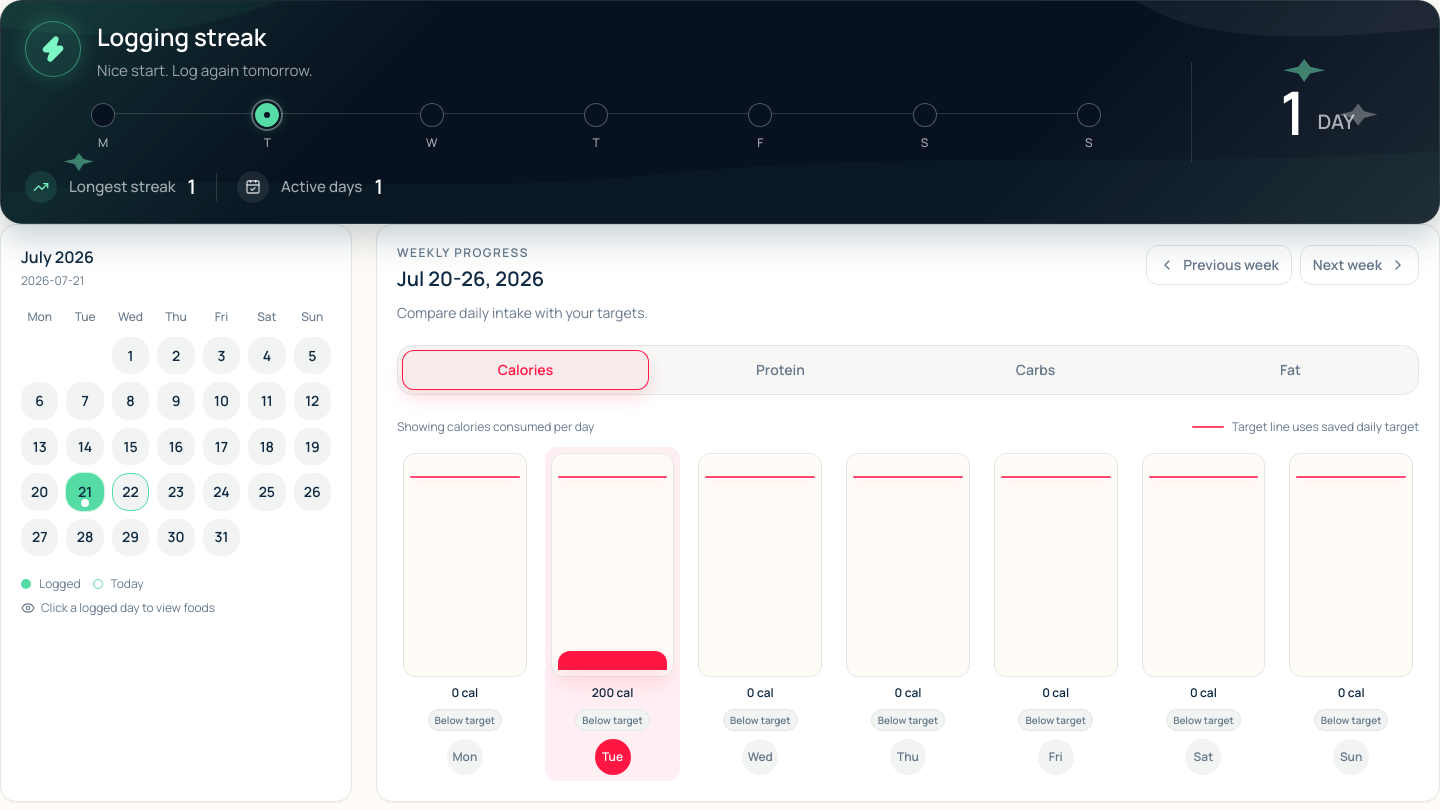
HistoryPageContent › shows multiple historical snapshot entries without combining them
The image size is (1440, 810).
Click the button named "July 21, 2026, 2 logged foods. View details." at (85, 492), box [66,473,104,511]
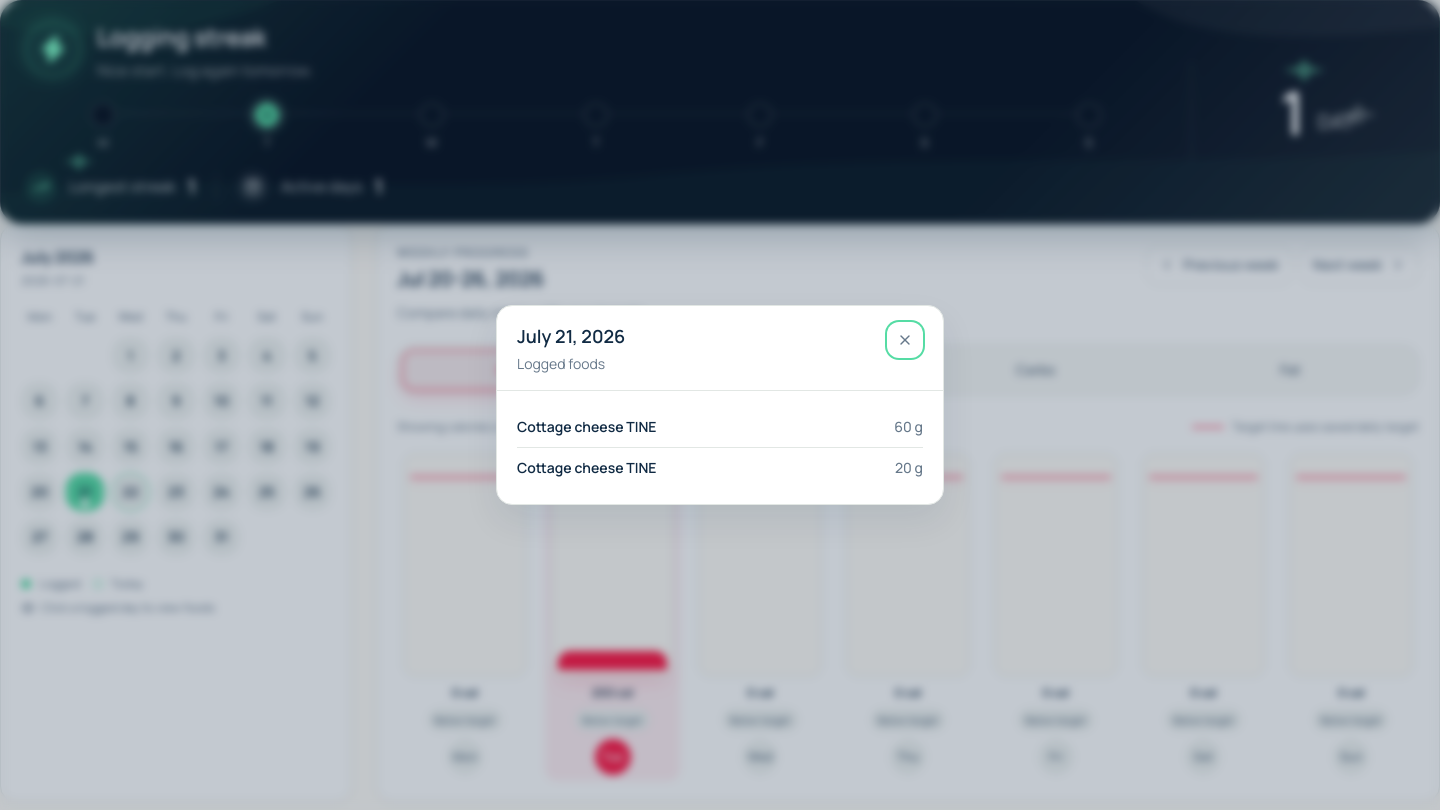
Now the text "Cottage cheese TINE" is shown 2 times, box [517,417,656,437]; [517,458,656,478]
Now the text "60 g" is shown, box [894,417,923,437]
Now the text "20 g" is shown, box [895,458,923,478]
